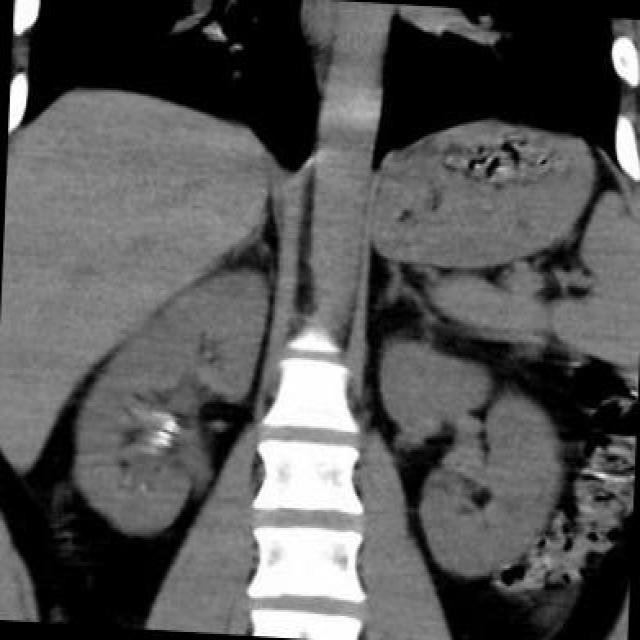Tas_Var: (152, 437, 174, 449), (156, 429, 176, 439), (159, 424, 177, 434), (166, 418, 178, 428)
